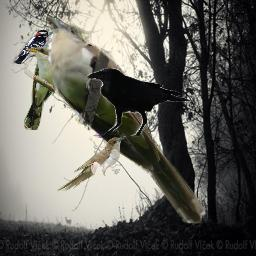Crow: (86, 68, 192, 139)
Cuckoo: (46, 16, 206, 224), (57, 136, 126, 191), (24, 47, 60, 130)
Woodpecker: (13, 30, 53, 64)
